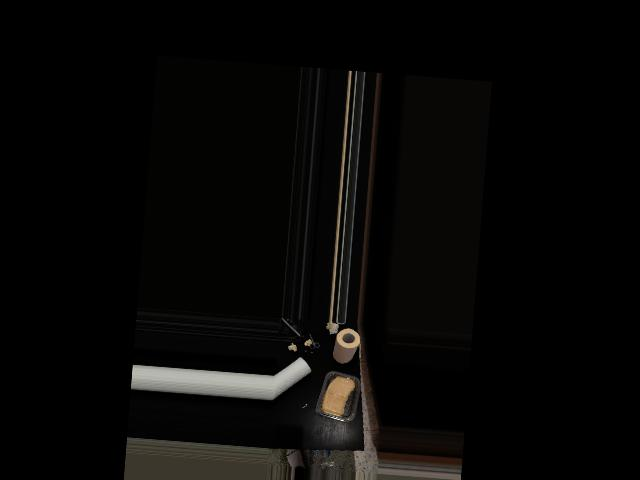cheese: (316, 370, 358, 423)
